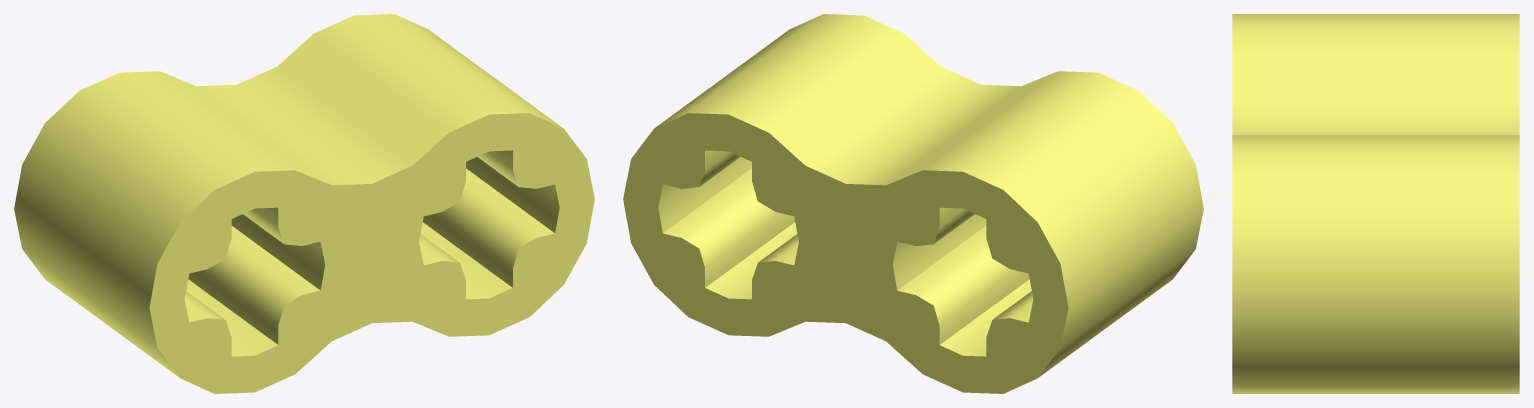
3 renders of one model, left to right at view 1: azimuth 30°, elevation 25°; view 2: azimuth 150°, elevation 25°; view 3: azimuth 270°, elevation 25°, orthographic. The views are drawn at different scales.
Visible parts, largest first — view 1: 45590.dat; view 2: 45590.dat; view 3: 45590.dat.
Boxes of the visible parts, x1,y1,x2,y2 form: 45590.dat: (14, 14, 594, 393); 45590.dat: (623, 14, 1203, 393); 45590.dat: (1232, 14, 1519, 393).
Size of the model in its own units: 0.0152 by 0.0072 by 0.008.
